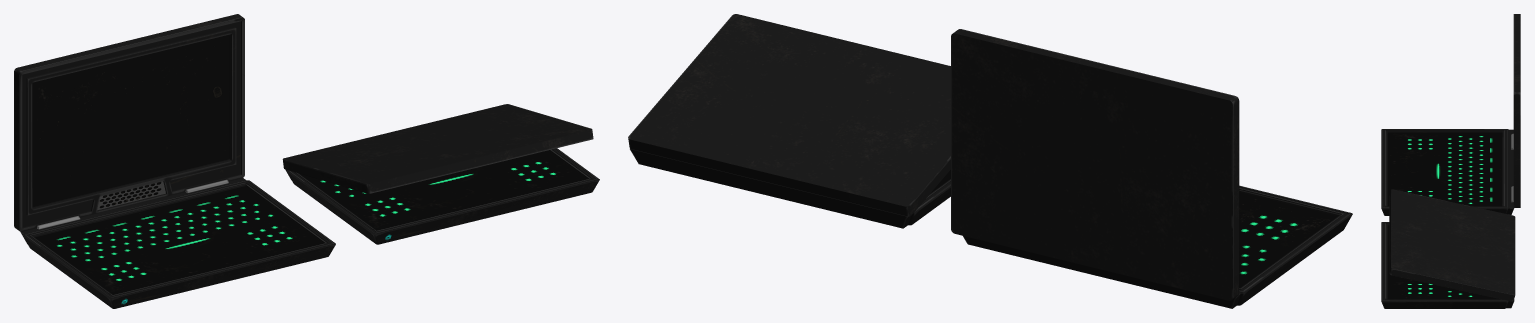
File: laptop.glb
3 renders of one model, left to right at view 1: azimuth 30°, elevation 25°; view 2: azimuth 150°, elevation 25°; view 3: azimuth 270°, elevation 25°, orthographic. The views are drawn at different scales.
Visible parts, largest first — view 1: Screen, Keyboard, Screen.002, Keyboard.002, Connector; view 2: Screen, Screen.002, Keyboard, Keyboard.002; view 3: Screen.002, Keyboard, Keyboard.002, Screen.
Boxes of the visible parts, left/top/right/bottom form: Screen: left=14, top=14, right=244, bottom=231; Keyboard: left=20, top=178, right=335, bottom=308; Screen.002: left=282, top=104, right=593, bottom=193; Keyboard.002: left=285, top=148, right=599, bottom=244; Connector: left=37, top=179, right=228, bottom=229; Screen: left=951, top=29, right=1239, bottom=300; Screen.002: left=628, top=14, right=950, bottom=216; Keyboard: left=963, top=185, right=1352, bottom=308; Keyboard.002: left=630, top=148, right=950, bottom=228; Screen.002: left=1389, top=189, right=1515, bottom=301; Keyboard: left=1381, top=129, right=1514, bottom=215; Keyboard.002: left=1381, top=222, right=1514, bottom=308; Screen: left=1513, top=14, right=1520, bottom=207.
Size of the model in its own units: 4.33 by 1.46 by 1.48.
Materials: 1 (1 with a texture image).
